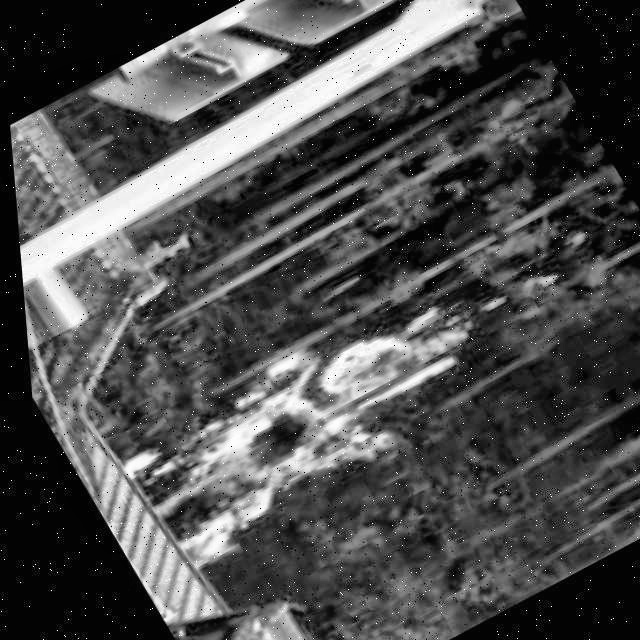Fire: (90, 278, 505, 570)
